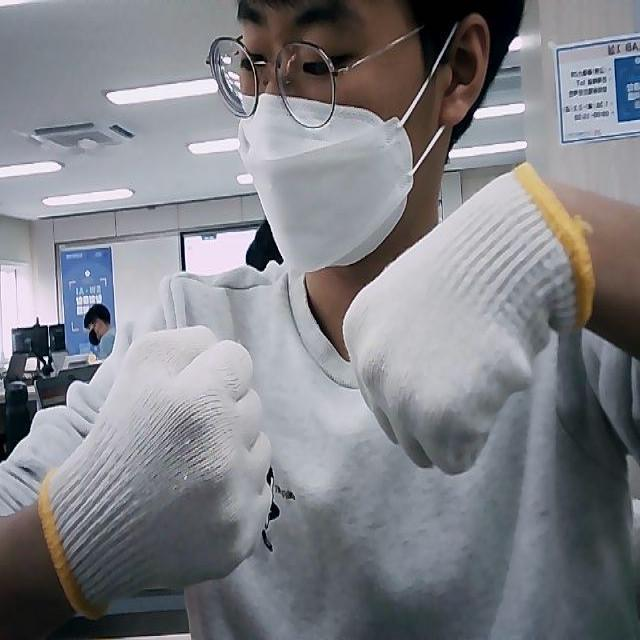gloves: (343, 165, 592, 471), (40, 323, 274, 614)
